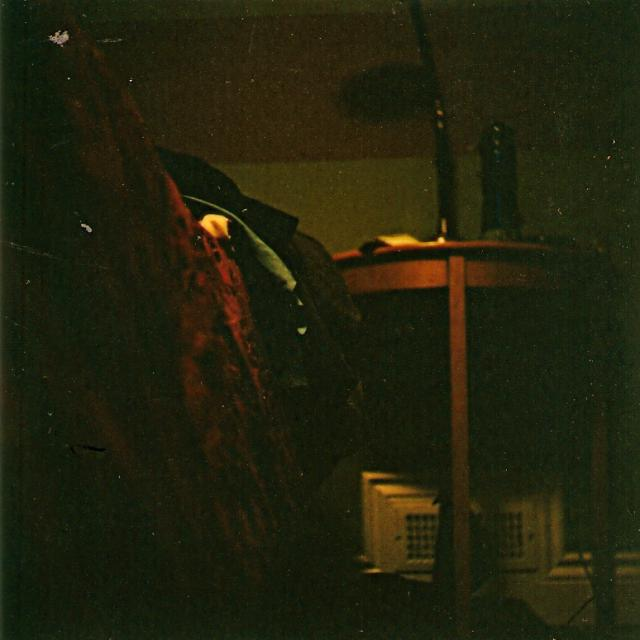Bottle: (458, 111, 533, 249)
Table: (300, 222, 620, 640)
